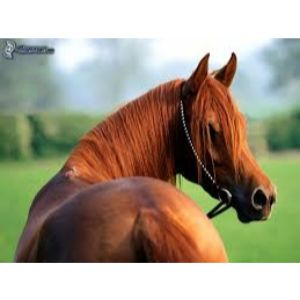horse: (73, 49, 278, 254)
